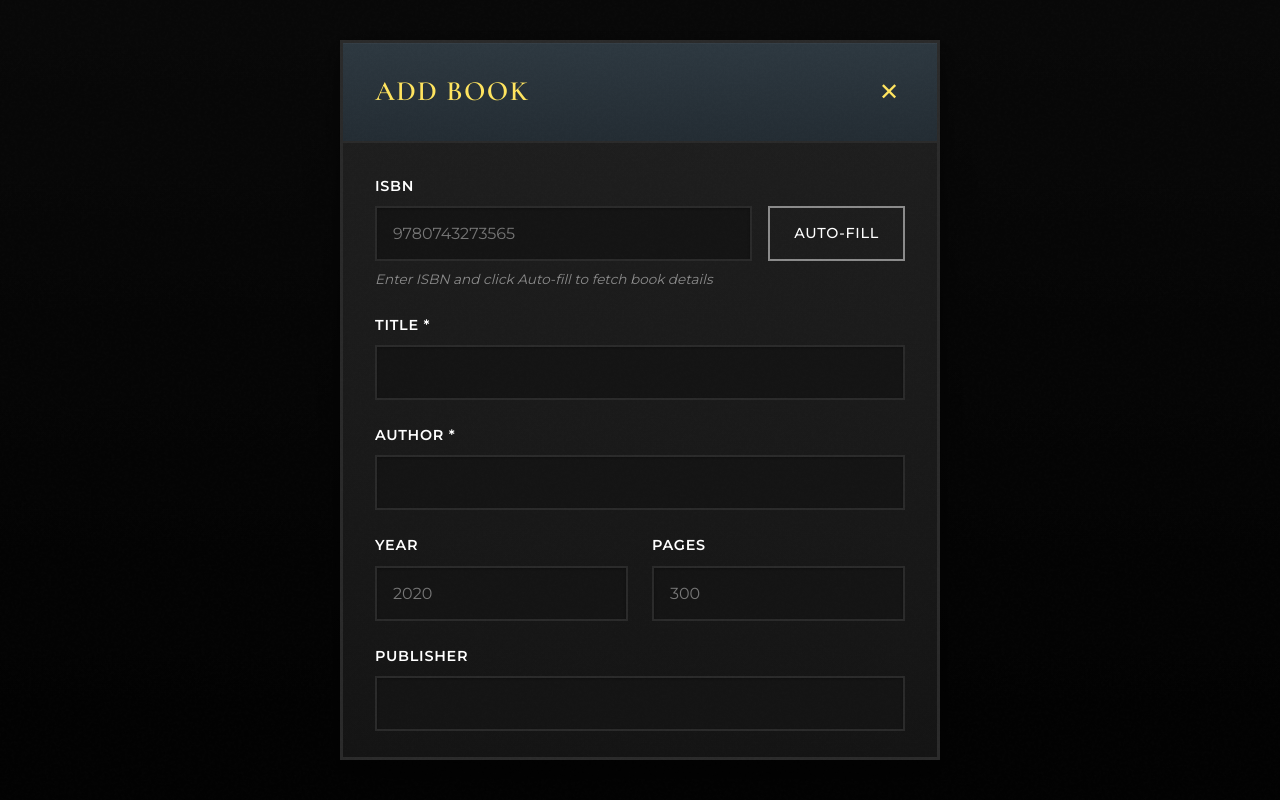
Test: BookFormModal › ISBN duplicate check › shows error for duplicate ISBN in add mode
Type "New Book" into the field labelled "Title *" at [640, 373], box [375, 345, 905, 400]
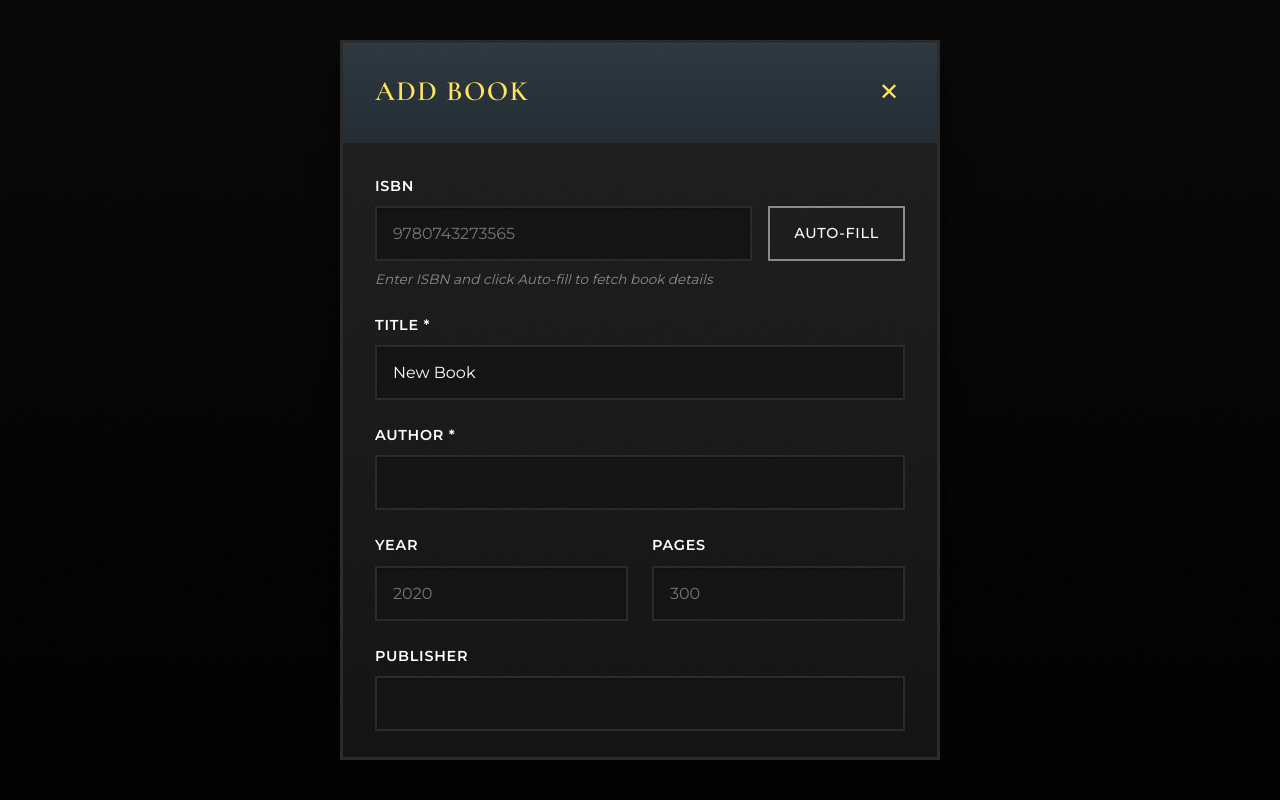
Type "New Author" into the field labelled "Author *" at [640, 483], box [375, 456, 905, 510]
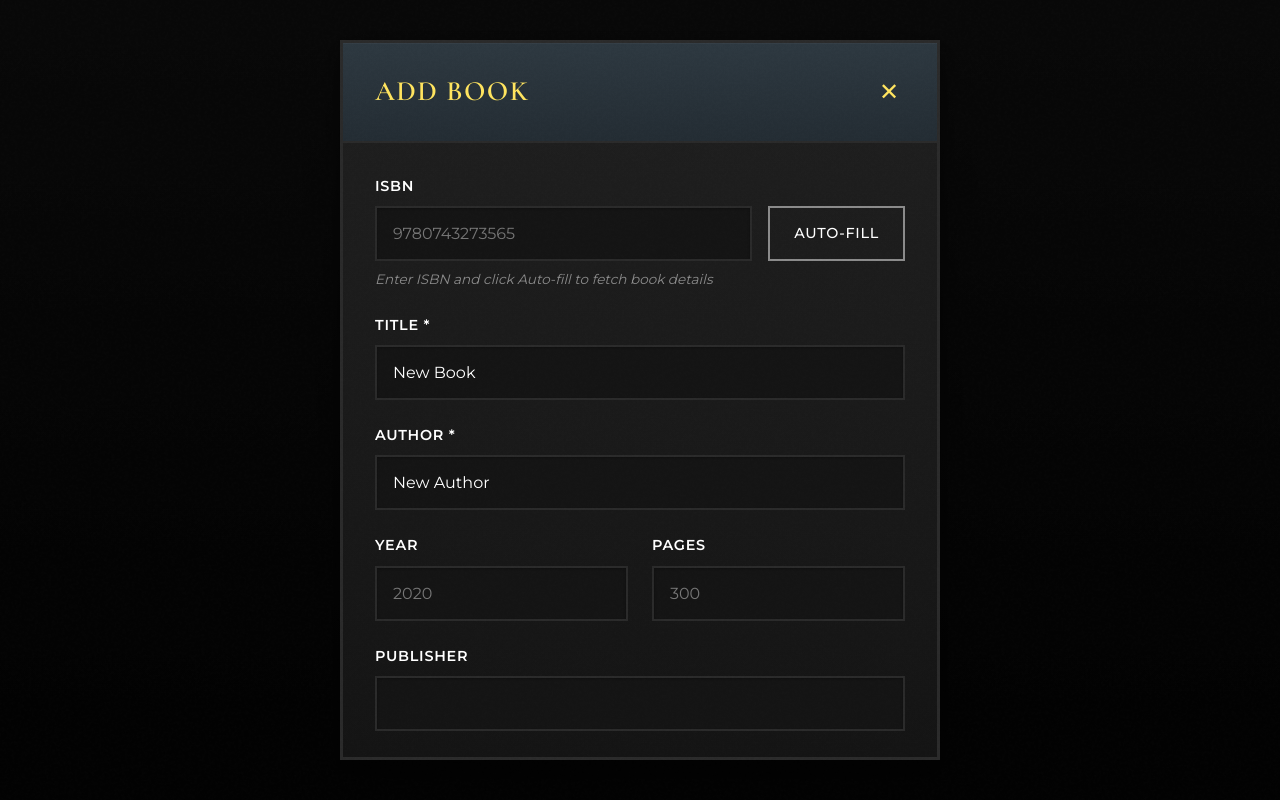
Type "1234567890" into the field labelled "ISBN" at [564, 233], box [375, 206, 752, 261]
(page scrolled)
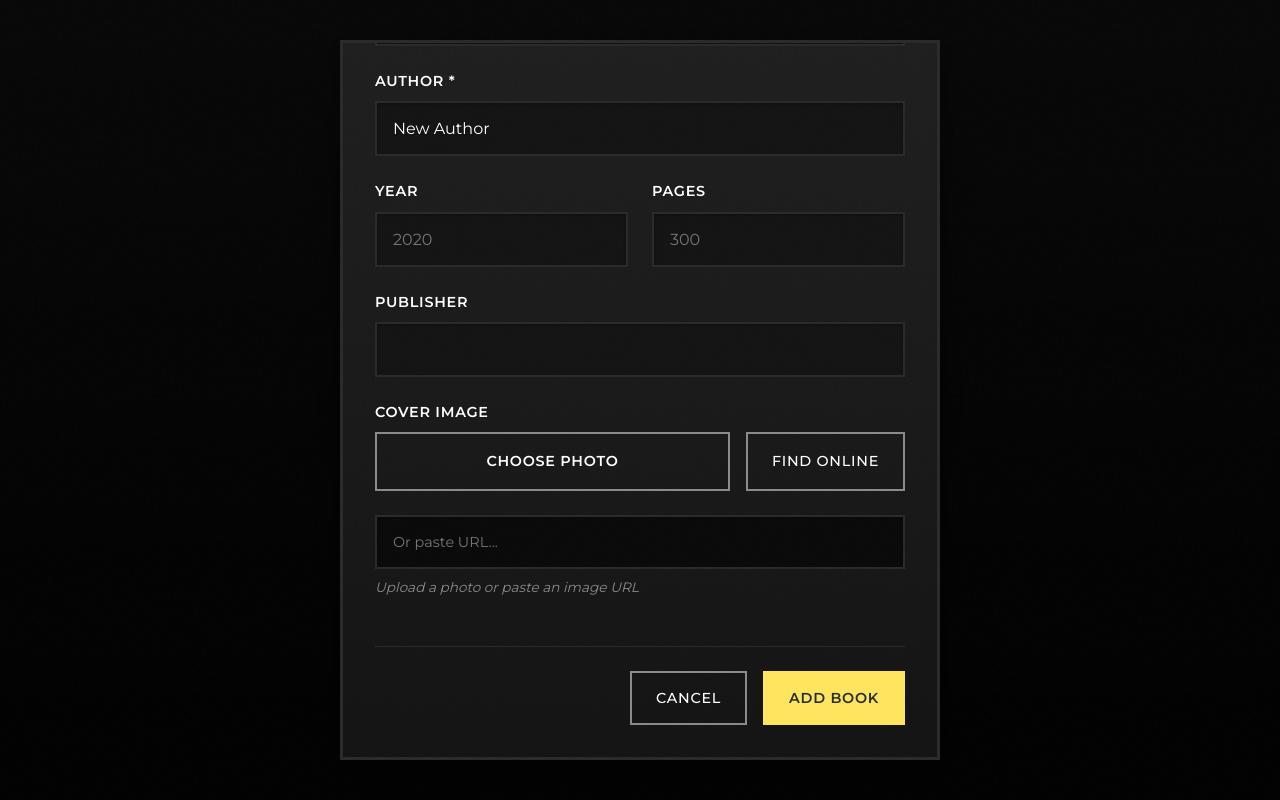
Click the button "Add Book" at [834, 698], box [763, 671, 905, 725]
(page scrolled)
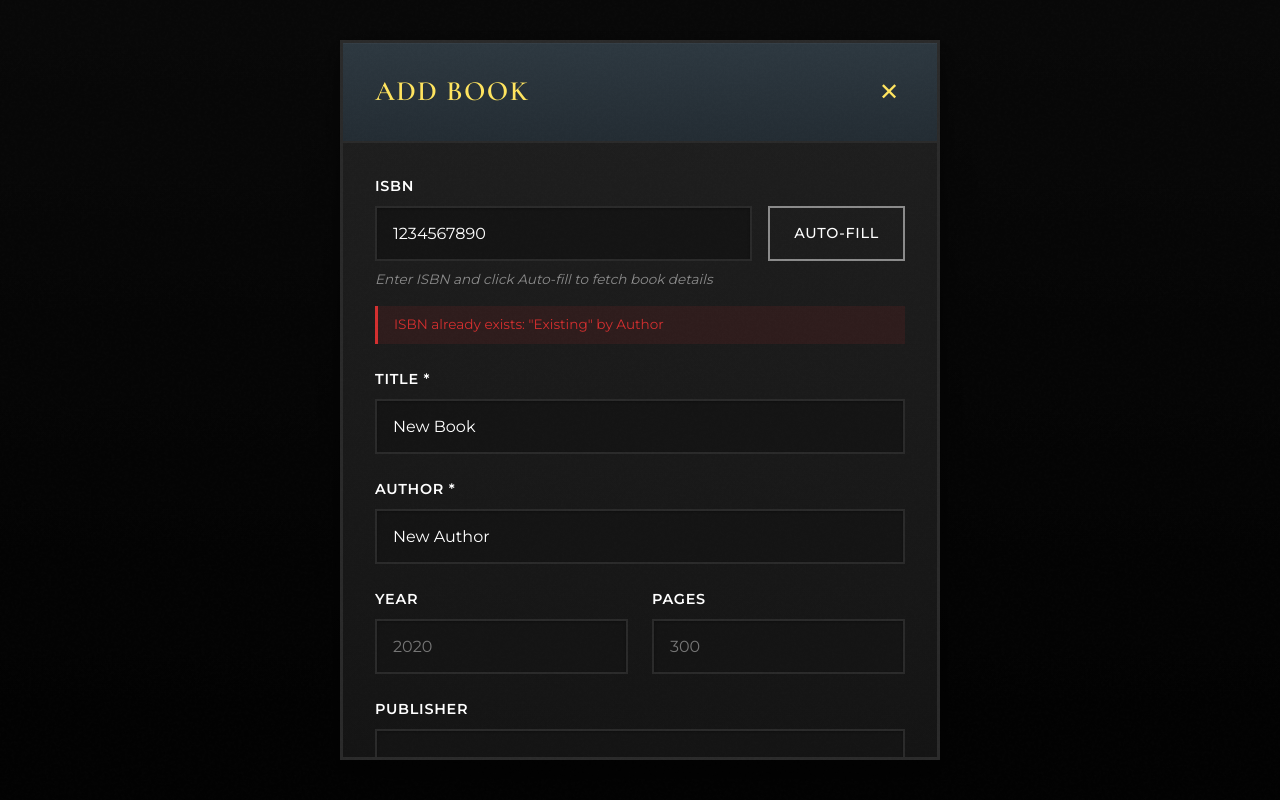
Expected: the text "ISBN already exists: \"Existing\" by Author" is shown, [375, 306, 905, 344]
